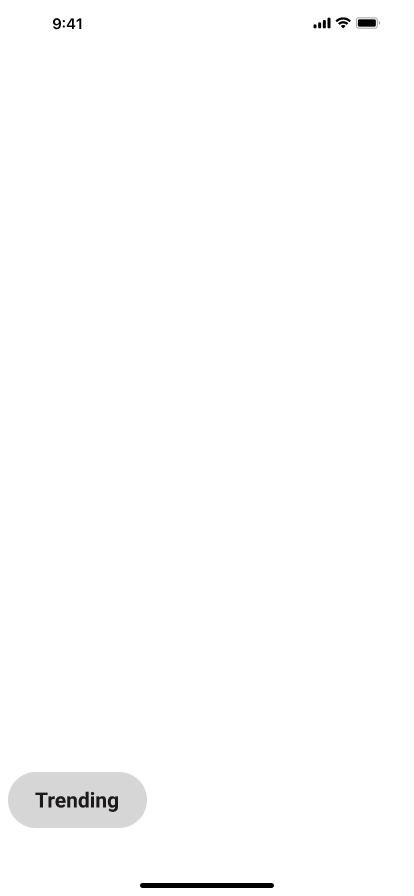Buttons: (8, 772, 155, 828)
Home Indicator: (0, 862, 414, 896)
Status Bar: (0, 0, 414, 44)
